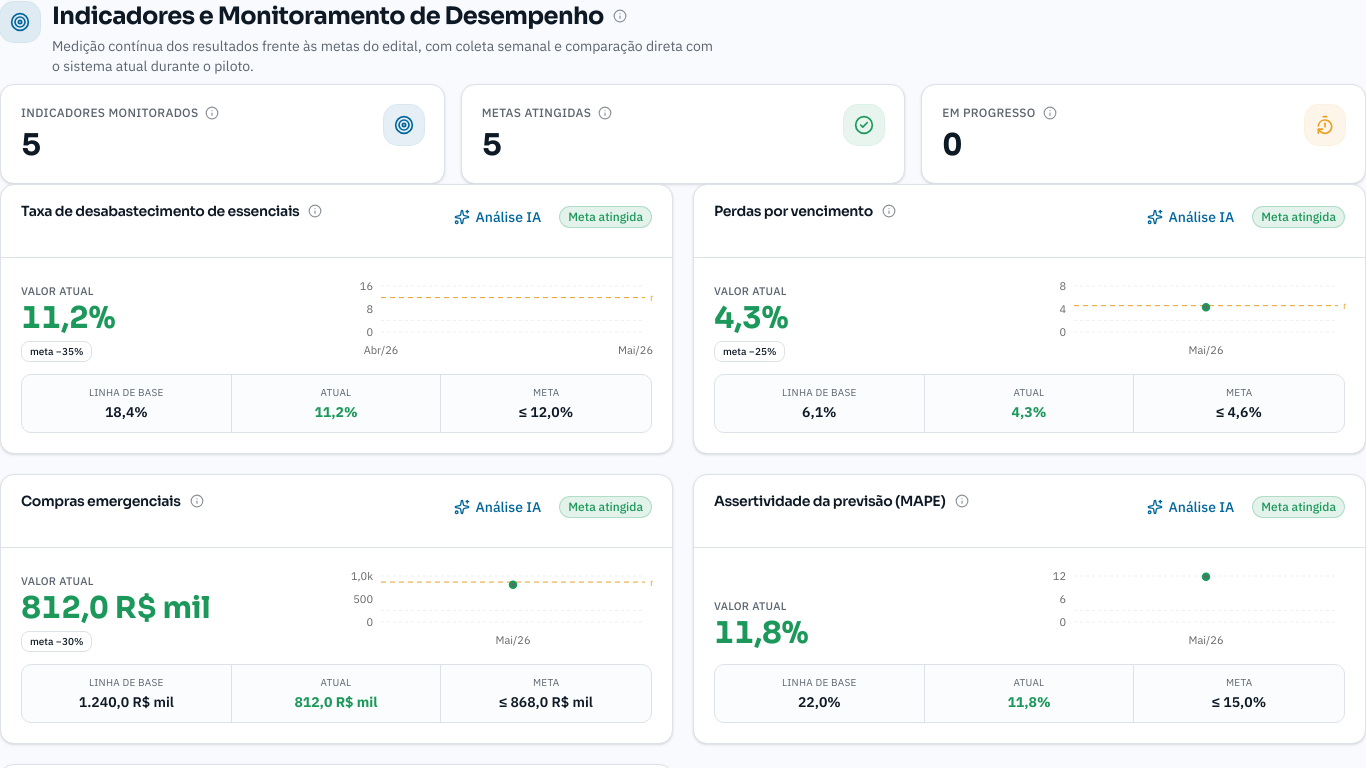
it: IndicadoresPage › abre o insight de IA de um indicador ao clicar em Análise IA
Step 1. Click the button with aria-label "Análise IA — Taxa de desabastecimento de essenciais" → (498, 217), box [444, 201, 551, 233]
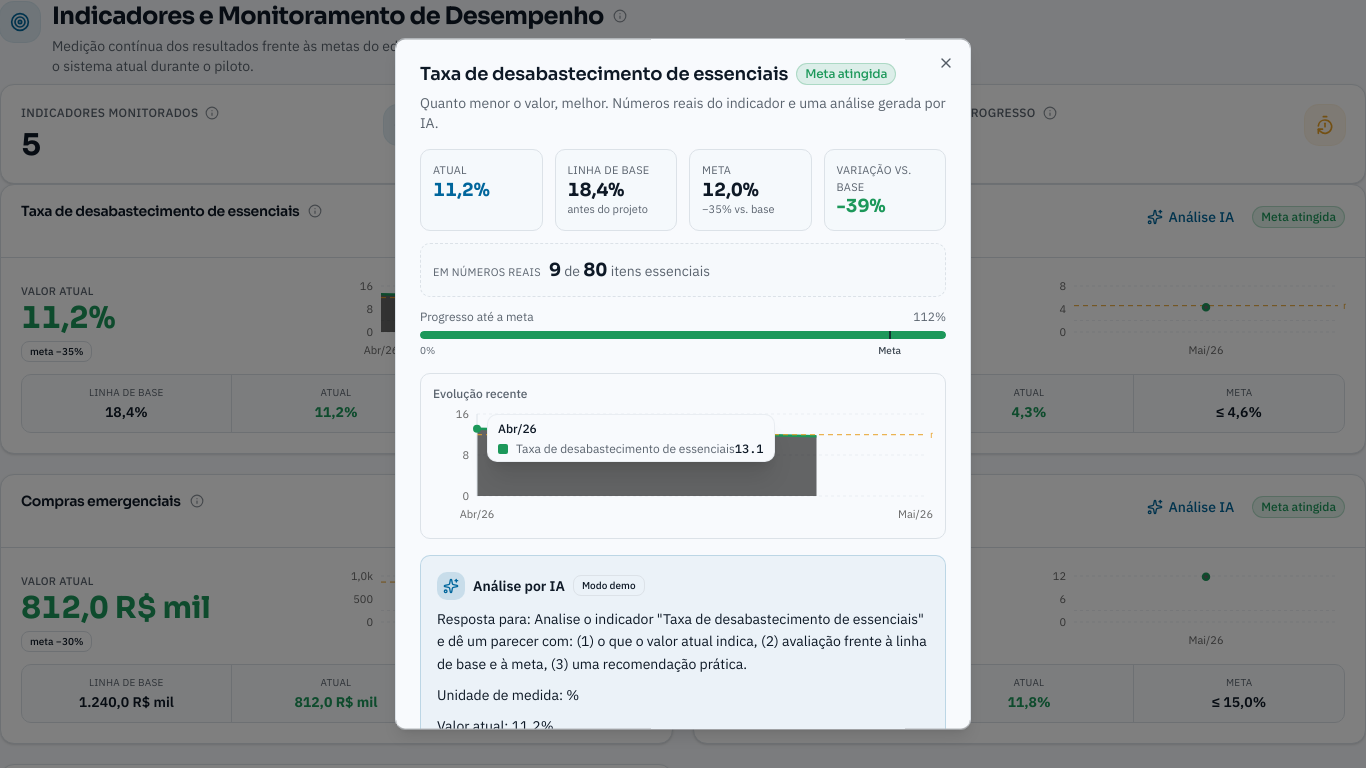
Result: the text "Análise por IA" is shown at [473, 576, 565, 596]
Result: the text "Resposta para:" is shown at [437, 610, 927, 673]
